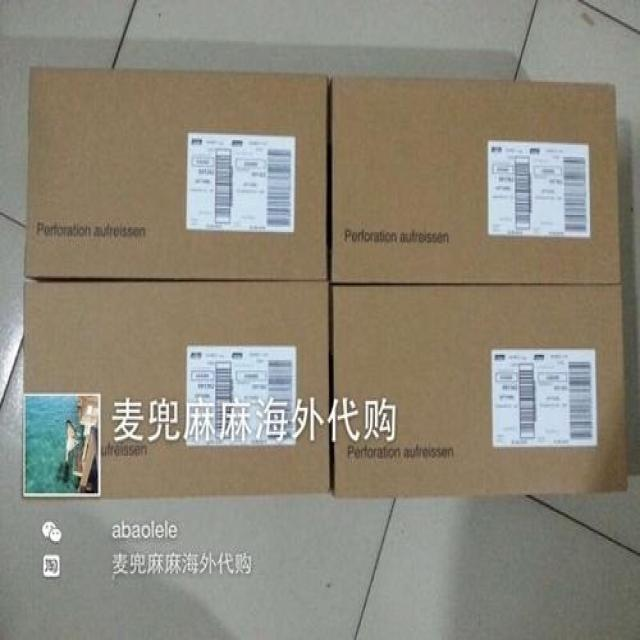box: (23, 281, 330, 496), (24, 67, 329, 281), (332, 286, 627, 494), (331, 78, 621, 283)
